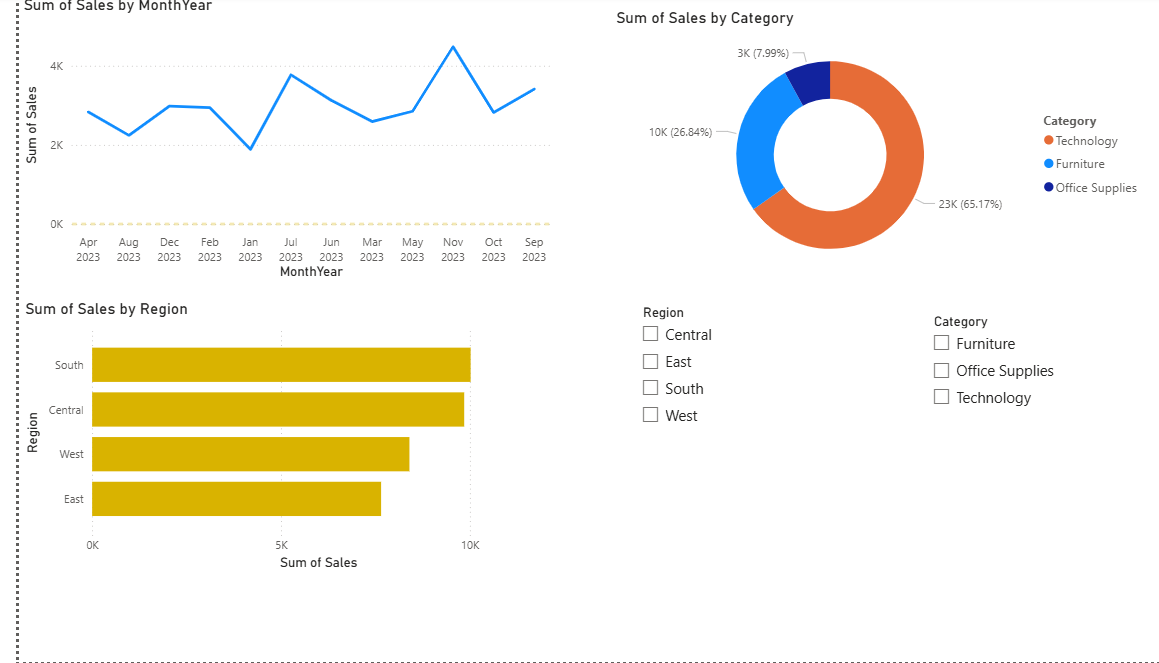

Layout of this report page (visuals, bound fields, positions):
{"tool":"powerbi","page":{"name":"Page 1","canvas":[1280,720],"ordinal":0},"visuals":[{"type":"lineChart","fields":{"Category":["Superstore.MonthYear"],"Y":["Sum(Superstore.Sales)"]},"box":[0,0,581.3,310.9],"z":0},{"type":"clusteredBarChart","fields":{"Category":["Superstore.Region"],"Y":["Sum(Superstore.Sales)"]},"box":[1.6,328.7,581.3,296.3],"z":1},{"type":"donutChart","fields":{"Category":["Superstore.Category"],"Y":["Sum(Superstore.Sales)"]},"box":[639.6,14.6,581.3,296.3],"z":2},{"type":"slicer","fields":{"Values":["Superstore.Region"]},"box":[660.6,328.7,302.8,296.3],"z":3},{"type":"slicer","fields":{"Values":["Superstore.Category"]},"box":[974.8,338.4,306,286.6],"z":4}]}

Visuals, with their boxes in screenshot pixels (x1, y1, x2, y2), scaled from the page's 1280x720 canvas onto the 1159x663 screenshot:
lineChart - Superstore.MonthYear x Sum(Superstore.Sales): 0/0/526/286
clusteredBarChart - Superstore.Region x Sum(Superstore.Sales): 1/303/528/576
donutChart - Superstore.Category x Sum(Superstore.Sales): 579/13/1105/286
slicer - Superstore.Region: 598/303/872/576
slicer - Superstore.Category: 883/312/1158/576
